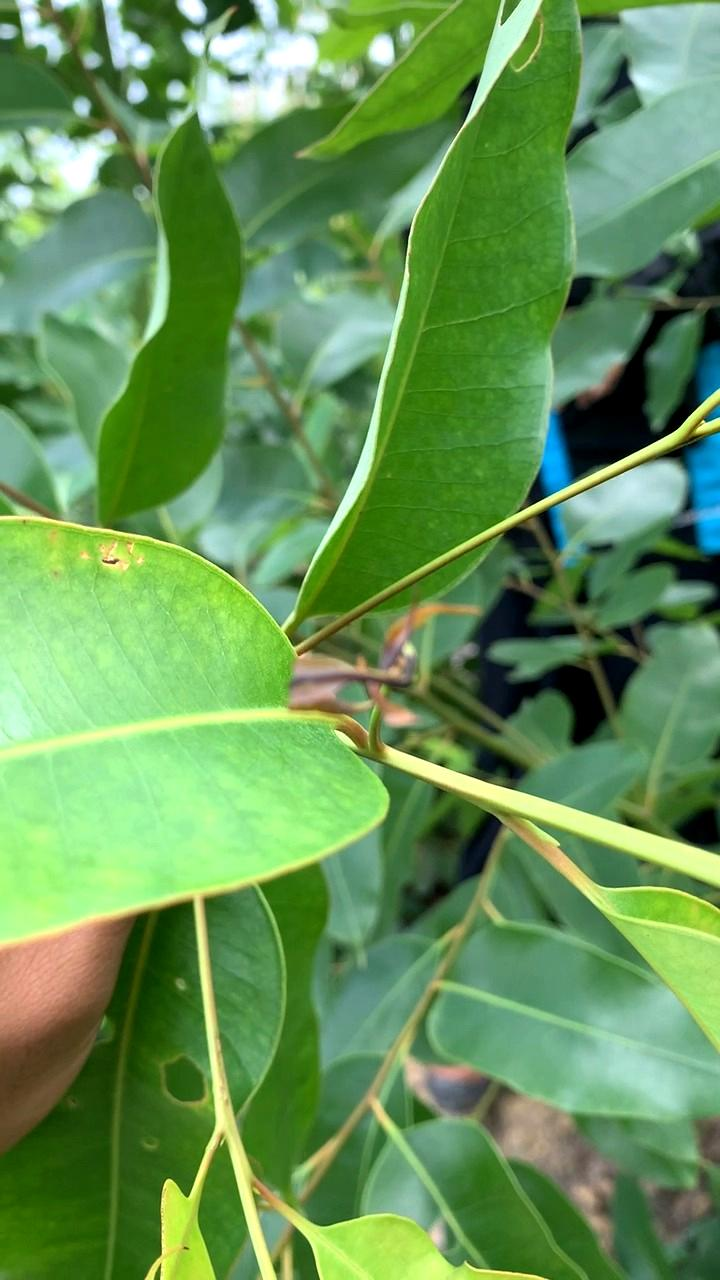Helopeltis-Withered Sprout: (253, 578, 518, 795)
